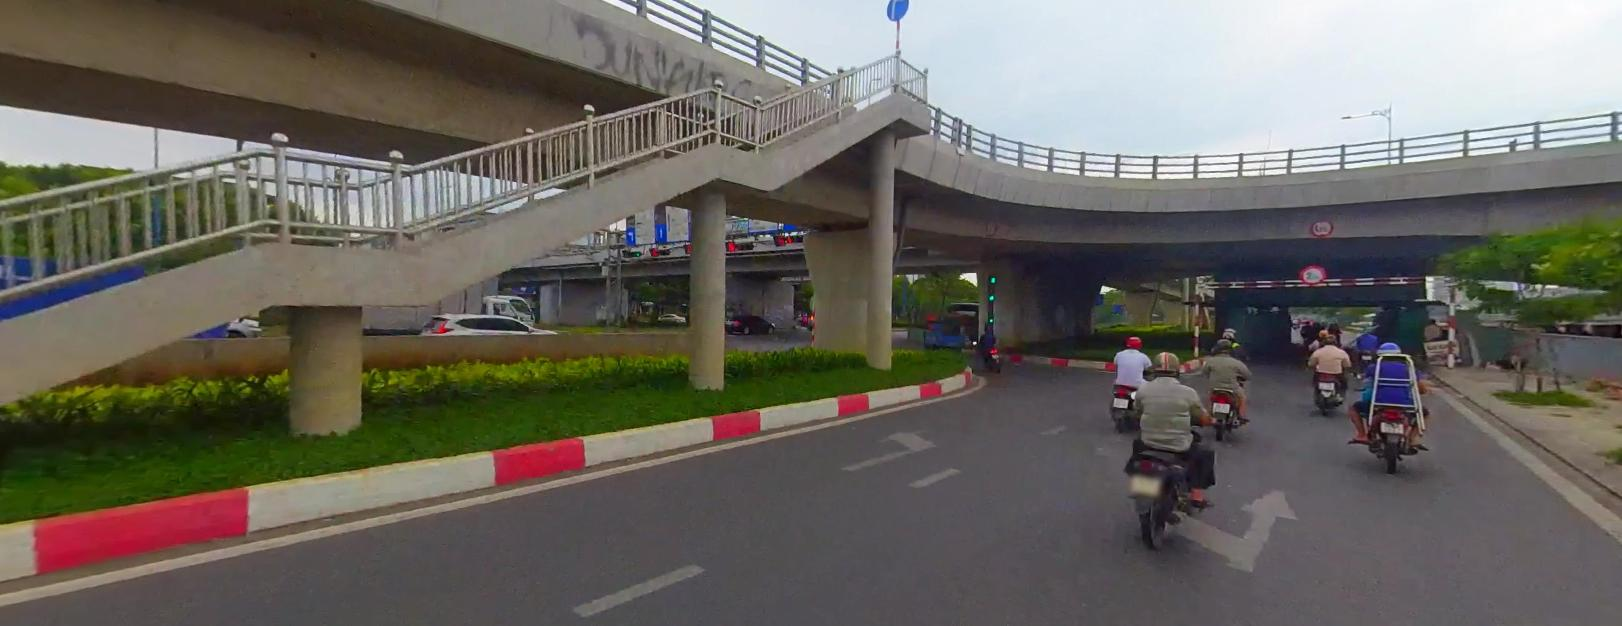Cam con lai: (1301, 264, 1323, 284), (1310, 218, 1332, 235)
Hieu lenh: (887, 0, 908, 22)
